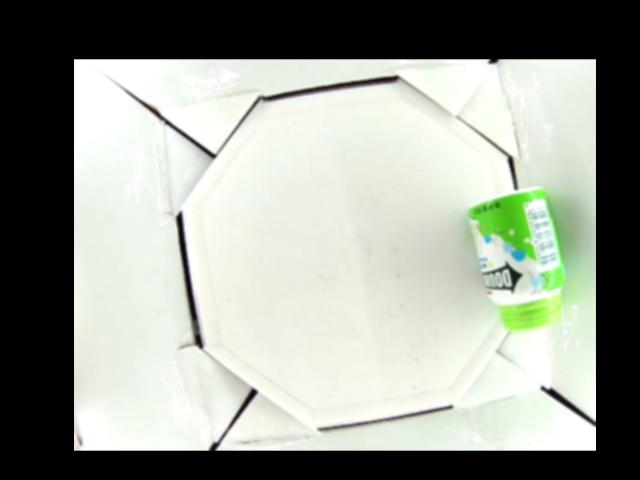Bottle: (466, 185, 567, 337)
